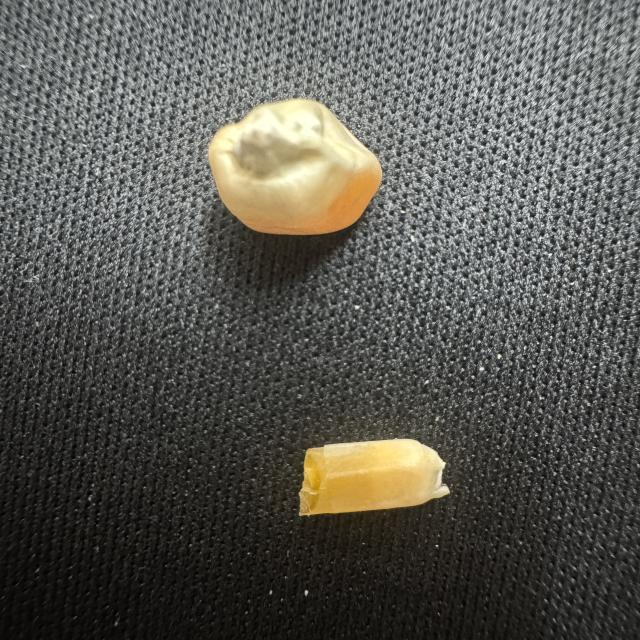Bad-Seed: (193, 91, 392, 249), (293, 426, 458, 532)
